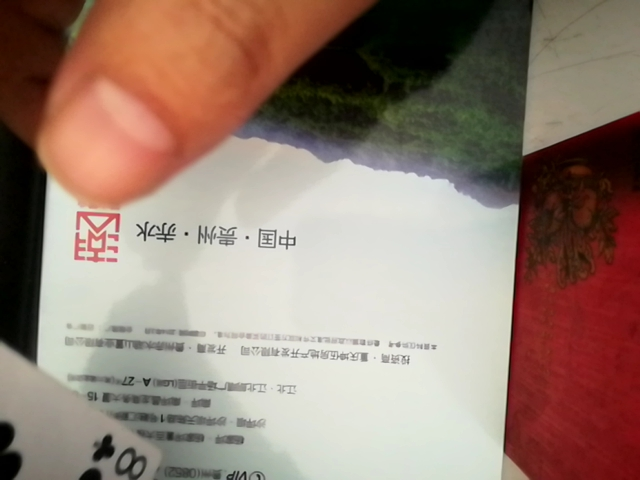mh 8: (16, 332, 470, 480)
